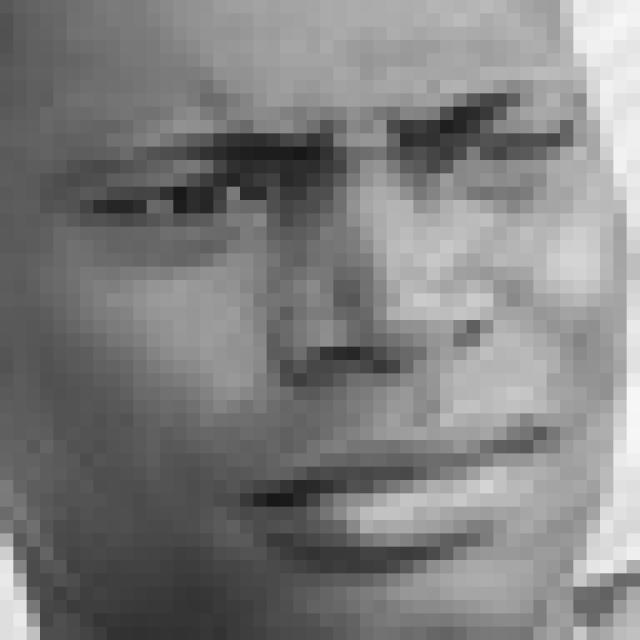disgust: (57, 68, 594, 568)
